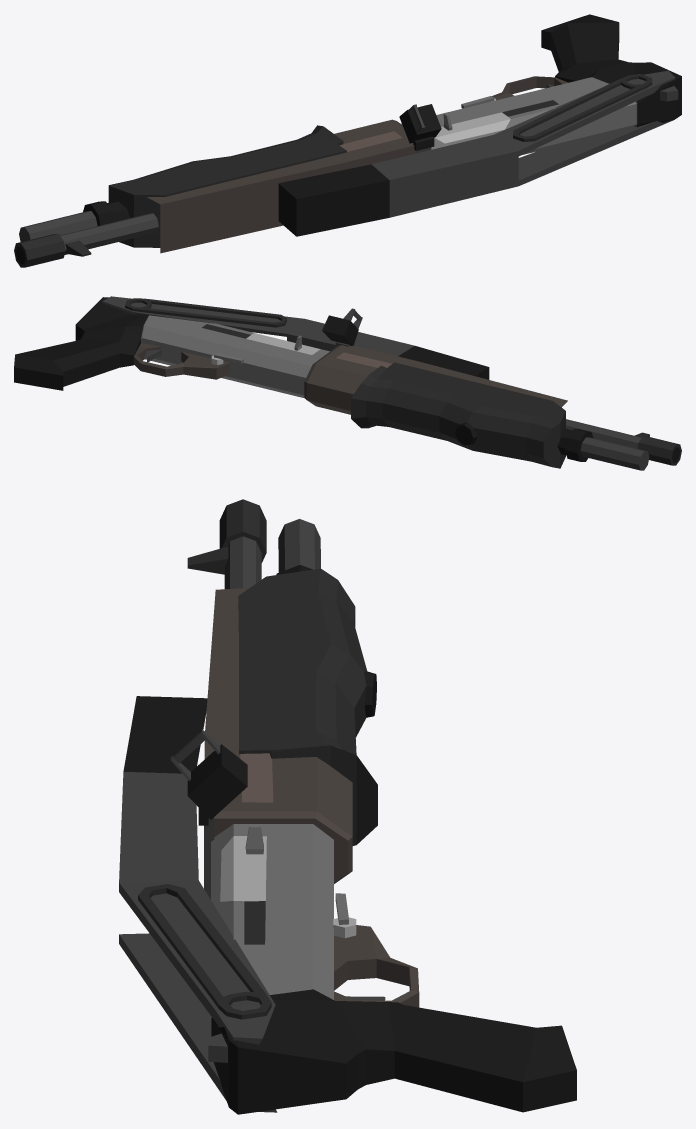
File: Spas_3D.glb
The picture shows the model from 3 angles, top to bottom: view 1: azimuth 30°, elevation 25°; view 2: azimuth 150°, elevation 25°; view 3: azimuth 270°, elevation 25°; orthographic projection. The views are drawn at different scales.
Parts seen in each view (by area): view 1: SpasBody.001; view 2: SpasBody.001; view 3: SpasBody.001.
Part boxes in pixels (x1,y1,x2,y2): SpasBody.001: [14, 14, 681, 267]; SpasBody.001: [14, 296, 681, 470]; SpasBody.001: [119, 499, 576, 1114].
Bounding box in the file's own units: 0.7672 × 0.1046 × 0.2574.
Materials: 1 (1 with a texture image).
